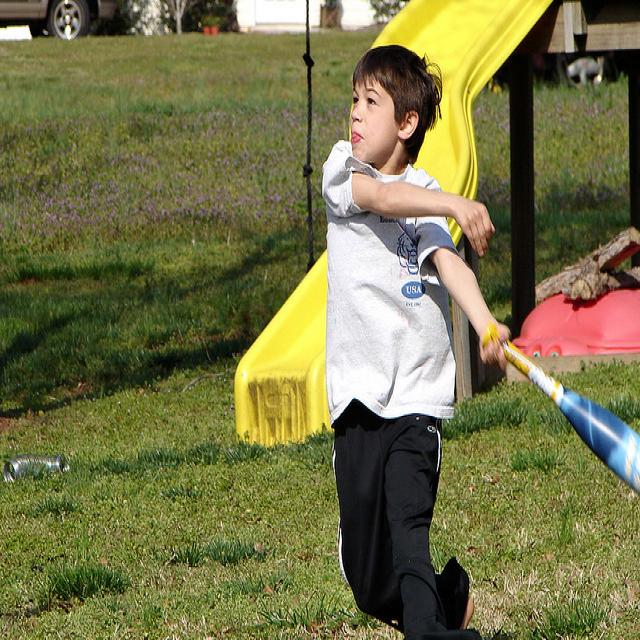Vehicle: (0, 0, 121, 40)
